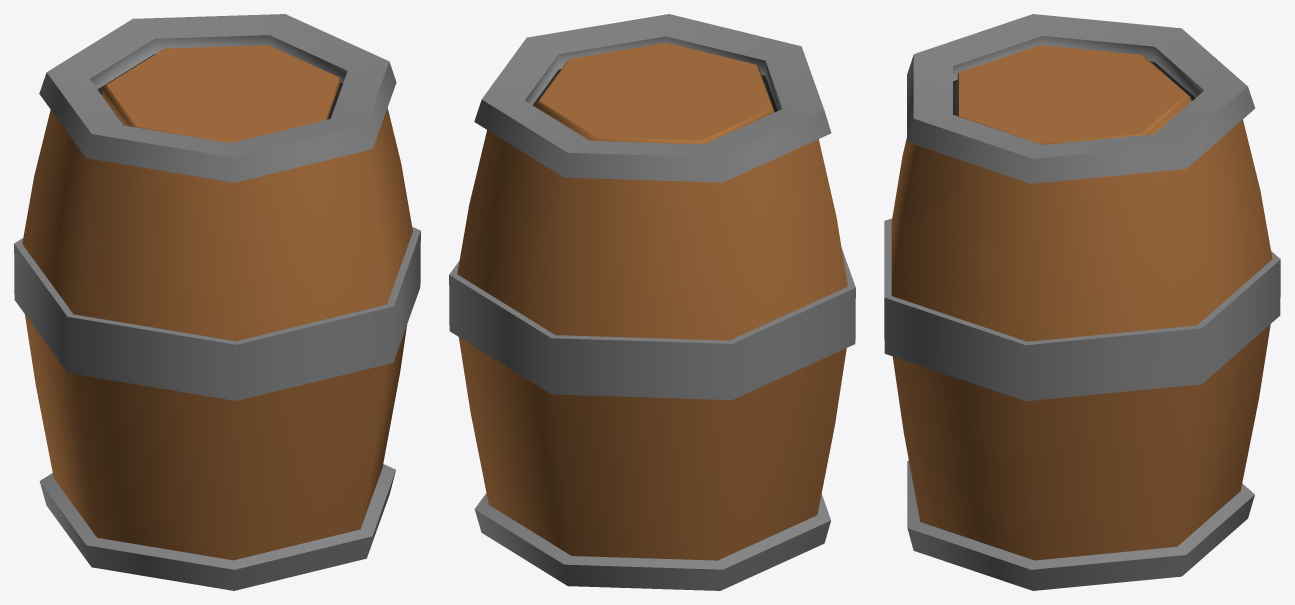
File: Barrel.fbx
The picture shows the model from 3 angles, left to right: view 1: azimuth 30°, elevation 25°; view 2: azimuth 150°, elevation 25°; view 3: azimuth 270°, elevation 25°; orthographic projection.
Visible parts, largest first — view 1: Barrel; view 2: Barrel; view 3: Barrel.
Boxes of the visible parts, left/top/right/bottom form: Barrel: left=14, top=14, right=420, bottom=590; Barrel: left=449, top=14, right=855, bottom=590; Barrel: left=884, top=14, right=1280, bottom=590.
Bounding box in the file's own units: 5.65 × 6.62 × 5.51.
